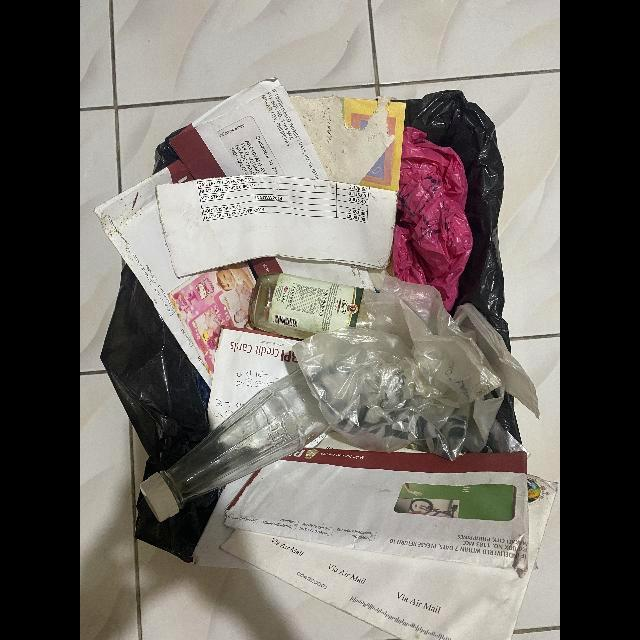glass_bottle: (140, 368, 332, 521), (249, 273, 363, 339)
paper: (220, 477, 558, 640), (93, 160, 301, 392), (225, 446, 528, 571), (156, 173, 397, 279), (166, 79, 328, 181), (290, 94, 407, 191), (209, 325, 300, 426)
plastic_bag: (288, 272, 539, 460), (393, 125, 474, 313)
